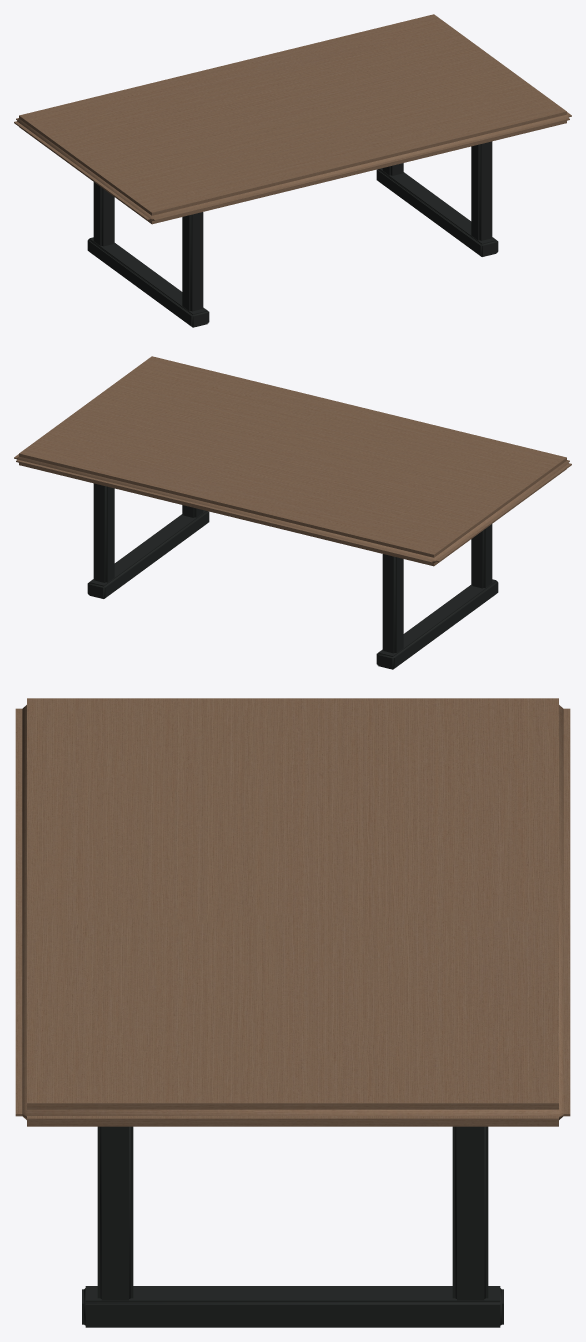
The model's file is industrial.coffee_table.gltf.
3 views of the same model, one above another, from view 1: azimuth 30°, elevation 25°; view 2: azimuth 150°, elevation 25°; view 3: azimuth 270°, elevation 25° (orthographic). The views are drawn at different scales.
Parts seen in each view (by area): view 1: industrial.coffee_table.rounded-top; view 2: industrial.coffee_table.rounded-top; view 3: industrial.coffee_table.rounded-top.
Part boxes in pixels (x1,y1,x2,y2): industrial.coffee_table.rounded-top: [14, 14, 571, 327]; industrial.coffee_table.rounded-top: [14, 356, 571, 669]; industrial.coffee_table.rounded-top: [15, 698, 570, 1327].
Bounding box in the file's own units: 1.15 × 0.36 × 0.65.
2 materials, 1 textured.
